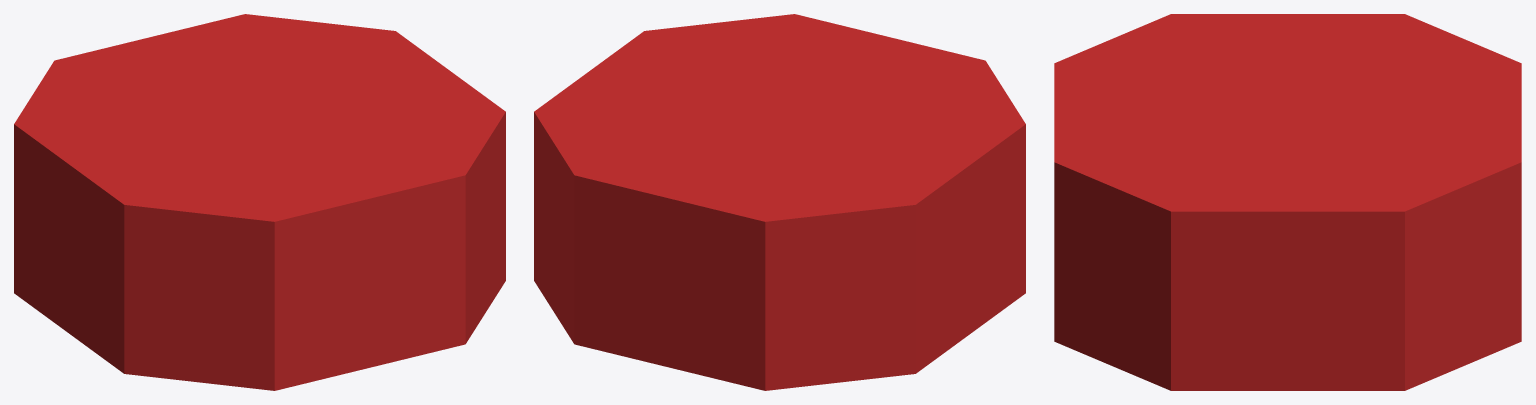
File: testEnemy.obj
The picture shows the model from 3 angles, left to right: view 1: azimuth 30°, elevation 25°; view 2: azimuth 150°, elevation 25°; view 3: azimuth 270°, elevation 25°; orthographic projection. The views are drawn at different scales.
Visible parts, largest first — view 1: Cube; view 2: Cube; view 3: Cube.
Boxes of the visible parts, box(x1,y1,x2,y2) form: Cube: box(14, 14, 505, 390); Cube: box(534, 14, 1025, 390); Cube: box(1054, 14, 1521, 390).
Bounding box in the file's own units: 2 × 0.8467 × 2.
1 material, 1 textured.
